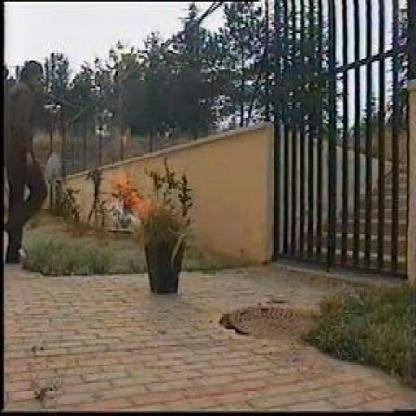-: (82, 117, 138, 162)
foggia-v2-map80-epoch100 - v1 4323: (111, 155, 152, 232)
